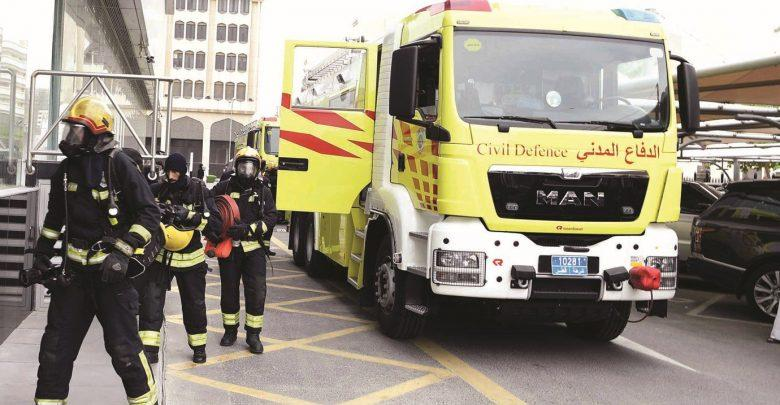firetruck_off: (278, 0, 701, 340)
